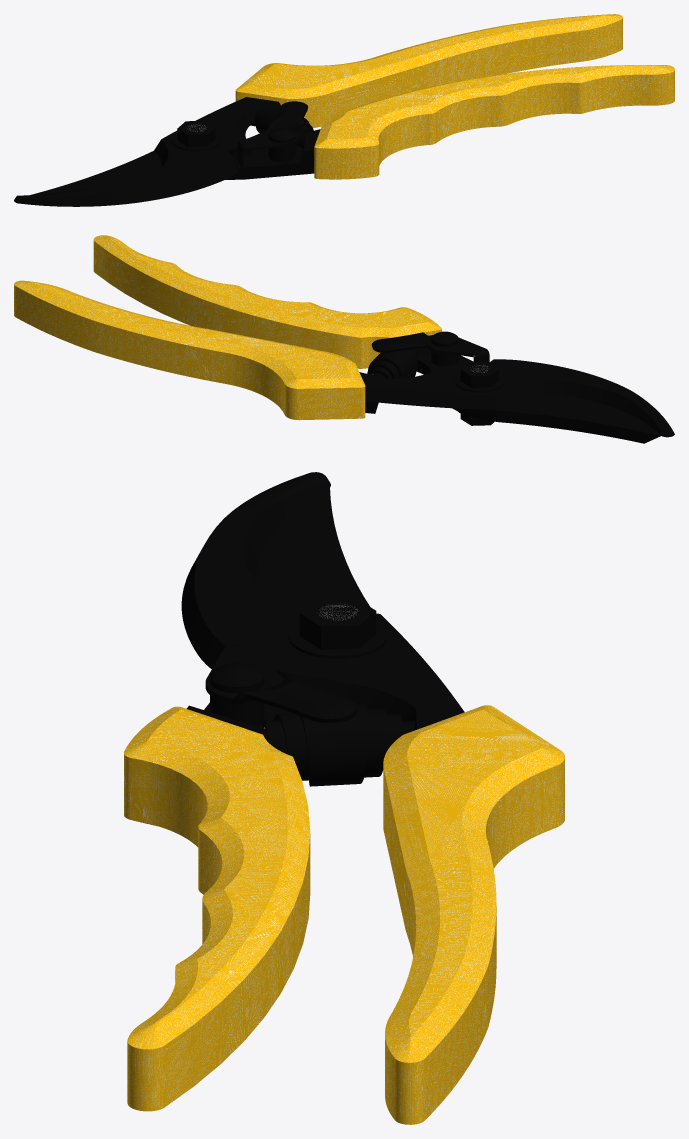
Rendered from shears_01_origin_gt_1.dae.
The picture shows the model from 3 angles, top to bottom: view 1: azimuth 30°, elevation 25°; view 2: azimuth 150°, elevation 25°; view 3: azimuth 270°, elevation 25°; orthographic projection. The views are drawn at different scales.
Parts seen in each view (by area): view 1: group_1, group_0, Difference1 (×4), group_2, group_8, group_3, group_6; view 2: group_0, Difference1 (×4), group_1, group_2, group_8, group_6, group_3; view 3: group_1, group_0, Difference1 (×4), group_8, group_2, group_6, group_3.
Boxes of the visible parts, <box> form: group_1: <box>314,65,674,179</box>; group_0: <box>235,14,622,127</box>; Difference1 (×4): <box>14,97,320,206</box>; group_2: <box>237,101,308,167</box>; group_8: <box>255,106,313,144</box>; group_3: <box>268,144,295,161</box>; group_6: <box>268,128,295,142</box>; group_0: <box>14,280,365,420</box>; Difference1 (×4): <box>359,335,674,443</box>; group_1: <box>93,235,441,368</box>; group_2: <box>371,332,489,361</box>; group_8: <box>367,349,418,378</box>; group_6: <box>431,331,458,346</box>; group_3: <box>431,351,458,365</box>; group_1: <box>124,706,310,1111</box>; group_0: <box>383,705,564,1124</box>; Difference1 (×4): <box>181,472,464,734</box>; group_8: <box>262,703,403,786</box>; group_2: <box>205,644,356,722</box>; group_6: <box>210,662,264,693</box>; group_3: <box>210,695,264,726</box>.
Size of the model in its own units: 13.47 by 4.09 by 1.05.
Materials: 6 (1 with a texture image).
